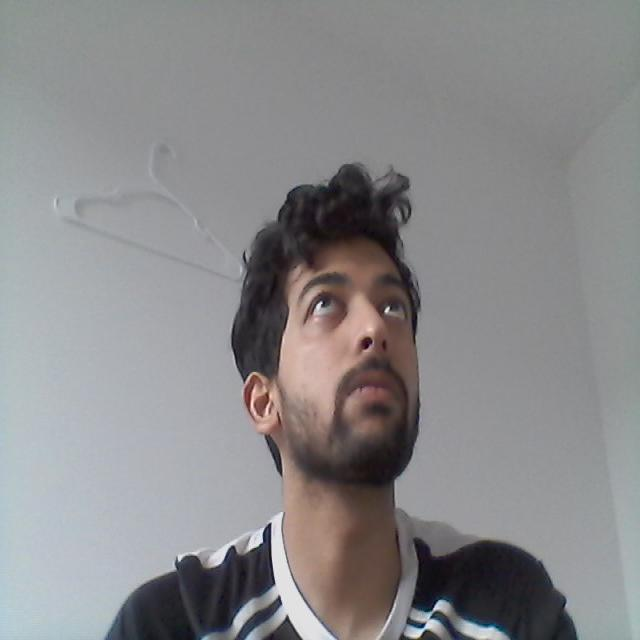nocap: (196, 160, 455, 379)
